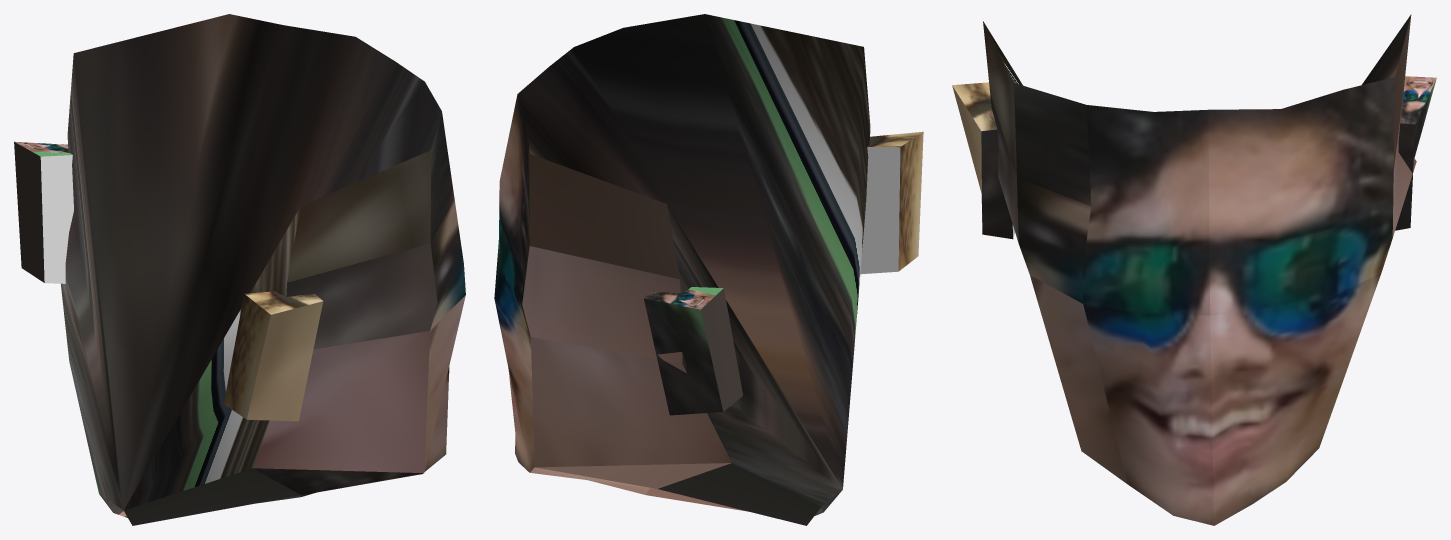
File: sks2.fbx
The picture shows the model from 3 angles, left to right: view 1: azimuth 30°, elevation 25°; view 2: azimuth 150°, elevation 25°; view 3: azimuth 270°, elevation 25°; orthographic projection.
Parts seen in each view (by area): view 1: Cylinder; view 2: Cylinder; view 3: Cylinder.
Part boxes in pixels (x1,y1,x2,y2): Cylinder: (14,14,465,525); Cylinder: (494,14,923,525); Cylinder: (952,14,1436,525).
Size of the model in its own units: 62.21 by 74.69 by 80.57.
1 material, 1 textured.
